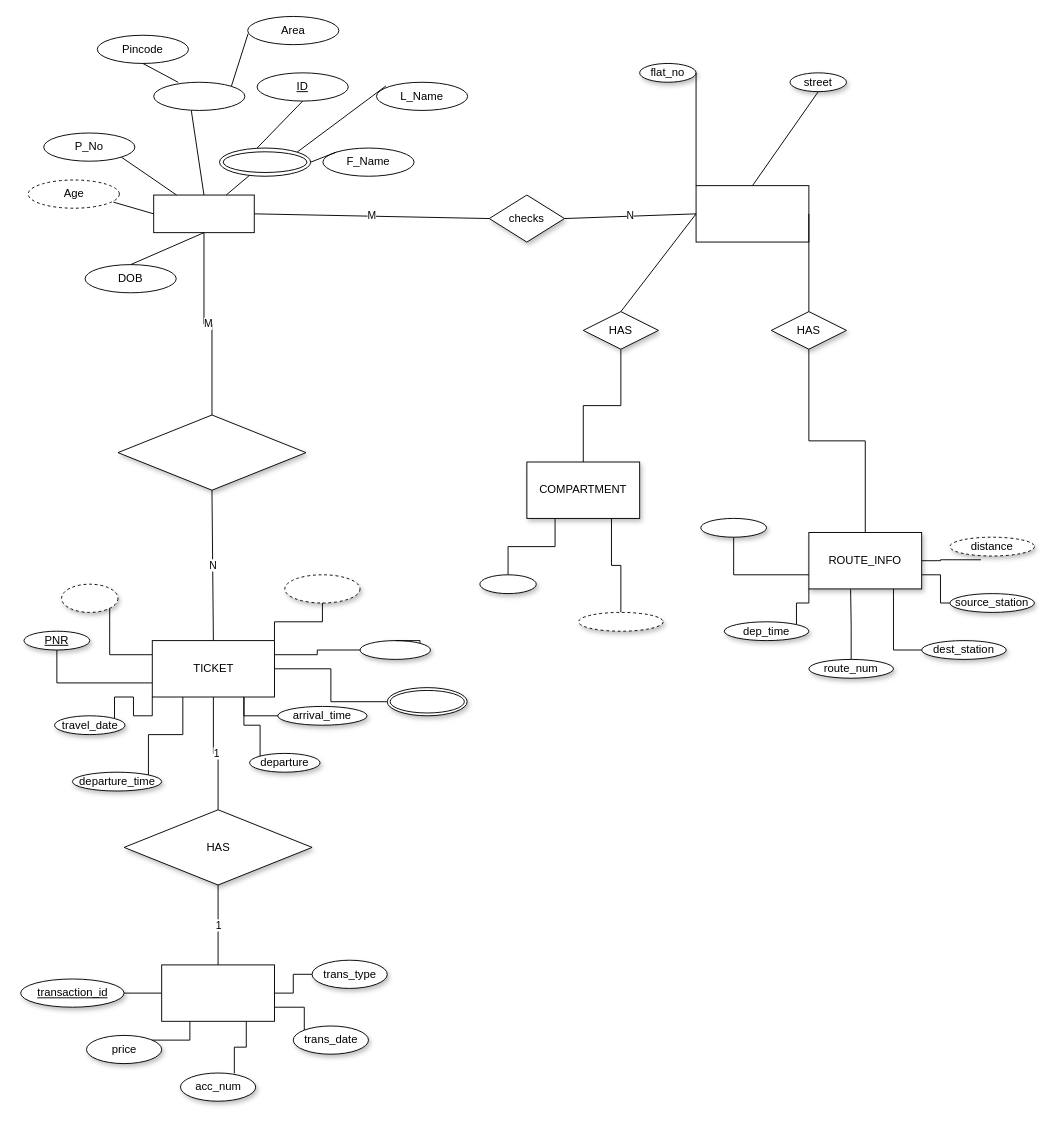
This 1057x1124 diagram has some shape labels left out. The centre of each missing label's shape, as x and y in pixels:
Address: point 199,95
arr_time: point 734,529
arrival: point 395,651
booked_seats: point 323,590
BOOKS/CANCELS: point 212,453
class_type: point 508,585
fare: point 90,599
Name: point 265,161
no_of_states: point 621,623
Passenger: point 203,213
PAYMENT: point 217,992
seat_num: point 428,702
TRAIN_INFO: point 752,213
